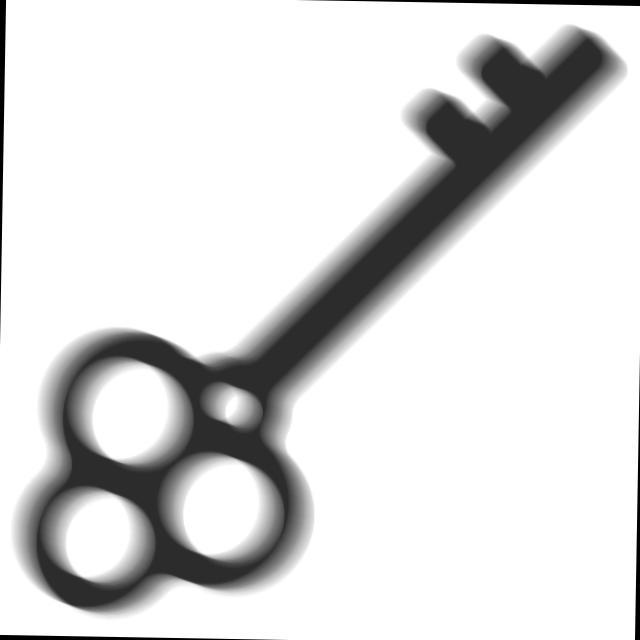key: (2, 10, 640, 637)
